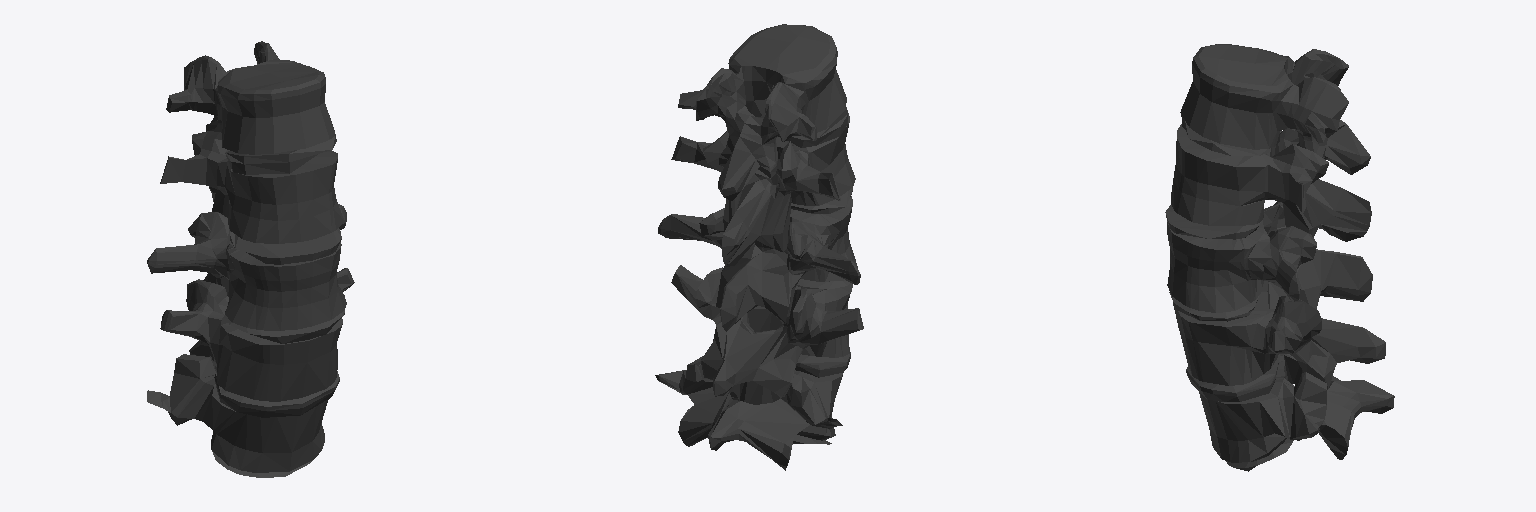
The model's file is Spine.obj.
3 views of the same model, side by side, from view 1: azimuth 30°, elevation 25°; view 2: azimuth 150°, elevation 25°; view 3: azimuth 270°, elevation 25° (orthographic).
Size of the model in its own units: 0.0934 by 0.1776 by 0.0922.